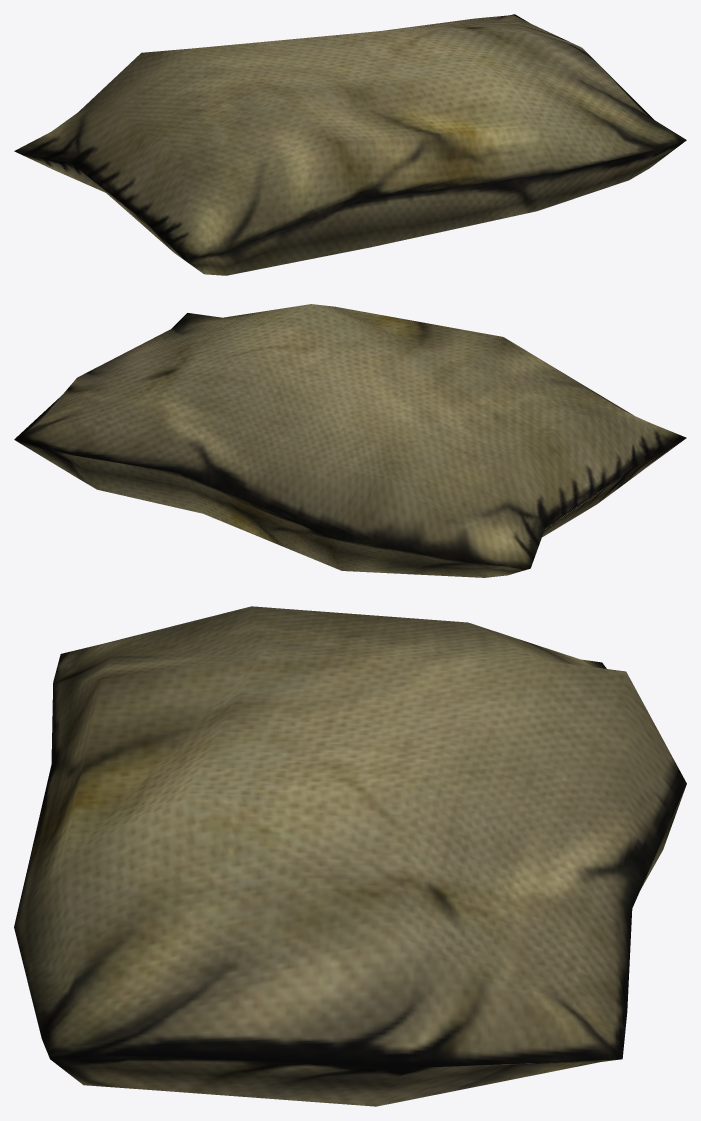
Rendered from PRP_SeedBag01.FBX.
The picture shows the model from 3 angles, top to bottom: view 1: azimuth 30°, elevation 25°; view 2: azimuth 150°, elevation 25°; view 3: azimuth 270°, elevation 25°; orthographic projection. The views are drawn at different scales.
Parts seen in each view (by area): view 1: PRP_SeedBag01; view 2: PRP_SeedBag01; view 3: PRP_SeedBag01.
Part boxes in pixels (left/top/right/bottom): PRP_SeedBag01: left=14, top=14, right=686, bottom=275; PRP_SeedBag01: left=14, top=304, right=686, bottom=577; PRP_SeedBag01: left=14, top=606, right=686, bottom=1106.
Bounding box in the file's own units: 103 × 24.83 × 70.03.
